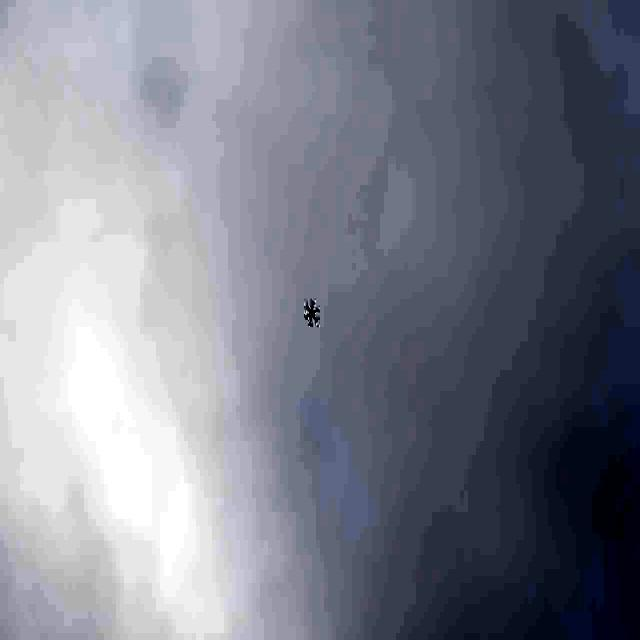drone: (297, 290, 323, 332)
